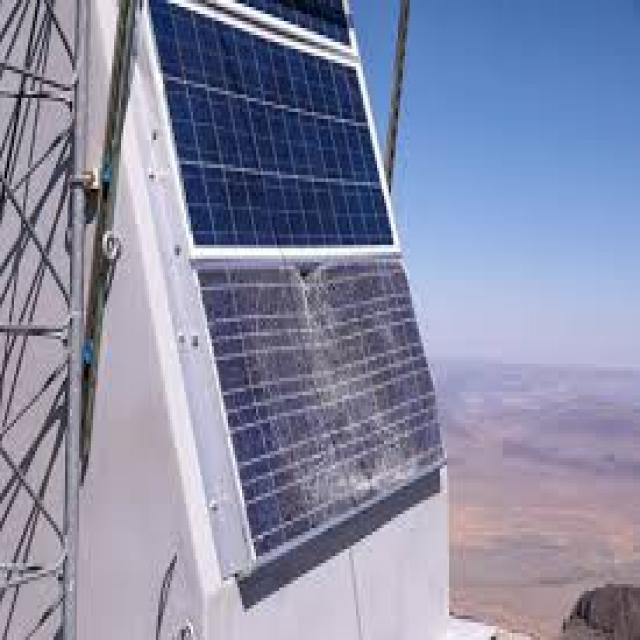faulty: (201, 254, 452, 563)
no faulty: (151, 2, 398, 243)
